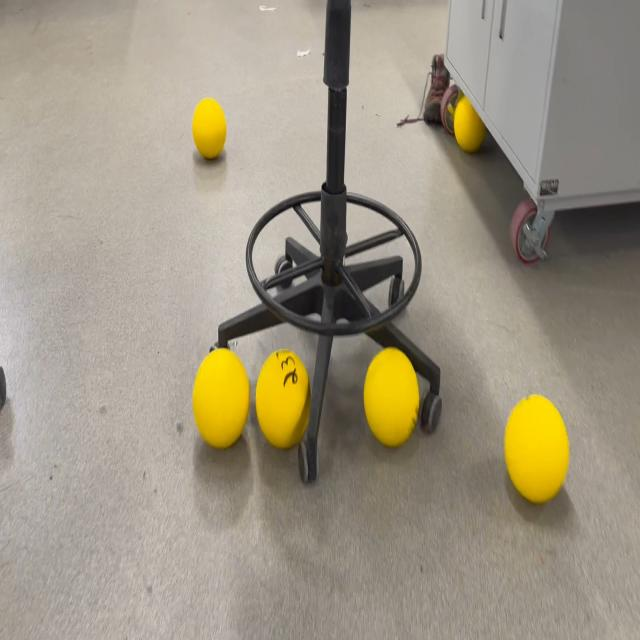Fuel: (504, 394, 570, 504), (192, 348, 250, 450), (256, 348, 312, 450), (363, 348, 420, 448), (192, 98, 227, 160), (453, 92, 488, 153)
